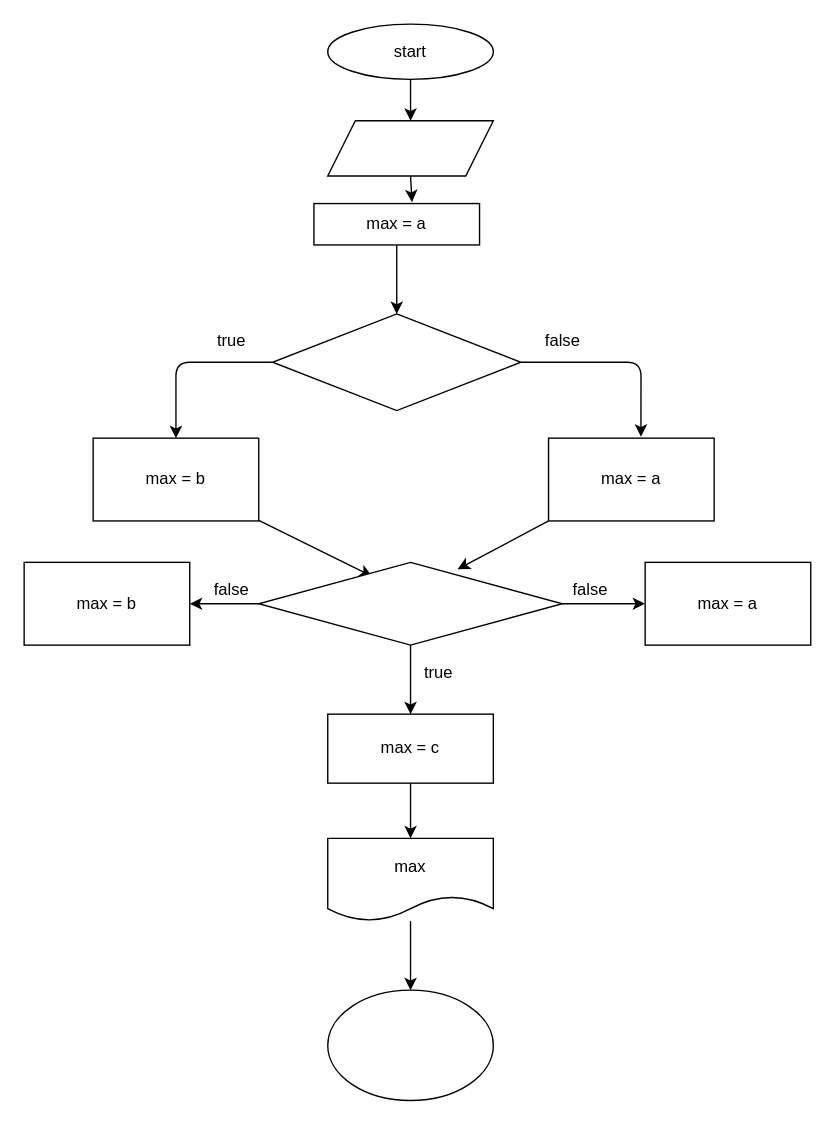
This 835x1125 diagram has some shape labels left out. Each missing label, with the box of its shape:
b > max?: (271, 313, 521, 411)
c > max?: (257, 561, 562, 645)
end: (326, 989, 493, 1101)
int = a, b, c: (326, 119, 493, 176)
